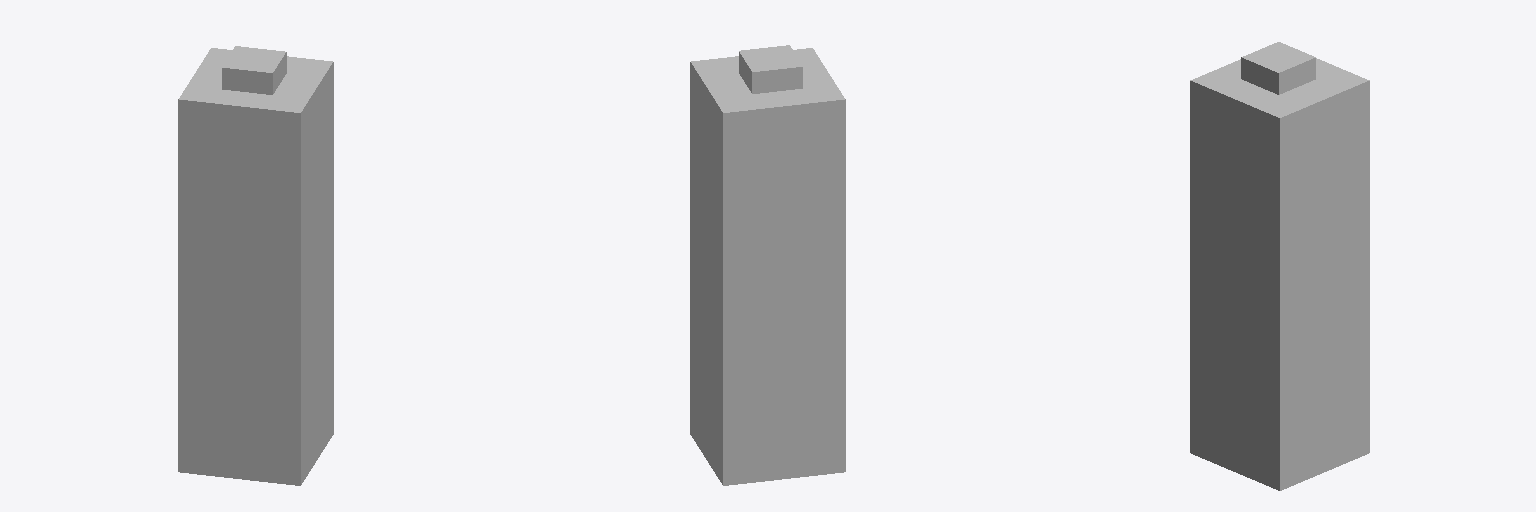
Rendered from ES_CAT_BCN_torremapfre - copia.obj.
3 renders of one model, left to right at view 1: azimuth 30°, elevation 25°; view 2: azimuth 150°, elevation 25°; view 3: azimuth 270°, elevation 25°, orthographic.
Parts seen in each view (by area): view 1: Cube.002, Cube.001; view 2: Cube.002, Cube.001; view 3: Cube.002, Cube.001.
Boxes of the visible parts, <box> form: Cube.002: <box>178,48,333,485</box>; Cube.001: <box>222,46,286,94</box>; Cube.002: <box>690,48,845,485</box>; Cube.001: <box>739,45,802,93</box>; Cube.002: <box>1190,58,1369,490</box>; Cube.001: <box>1241,42,1315,94</box>.
Size of the model in its own units: 67 by 163 by 67.